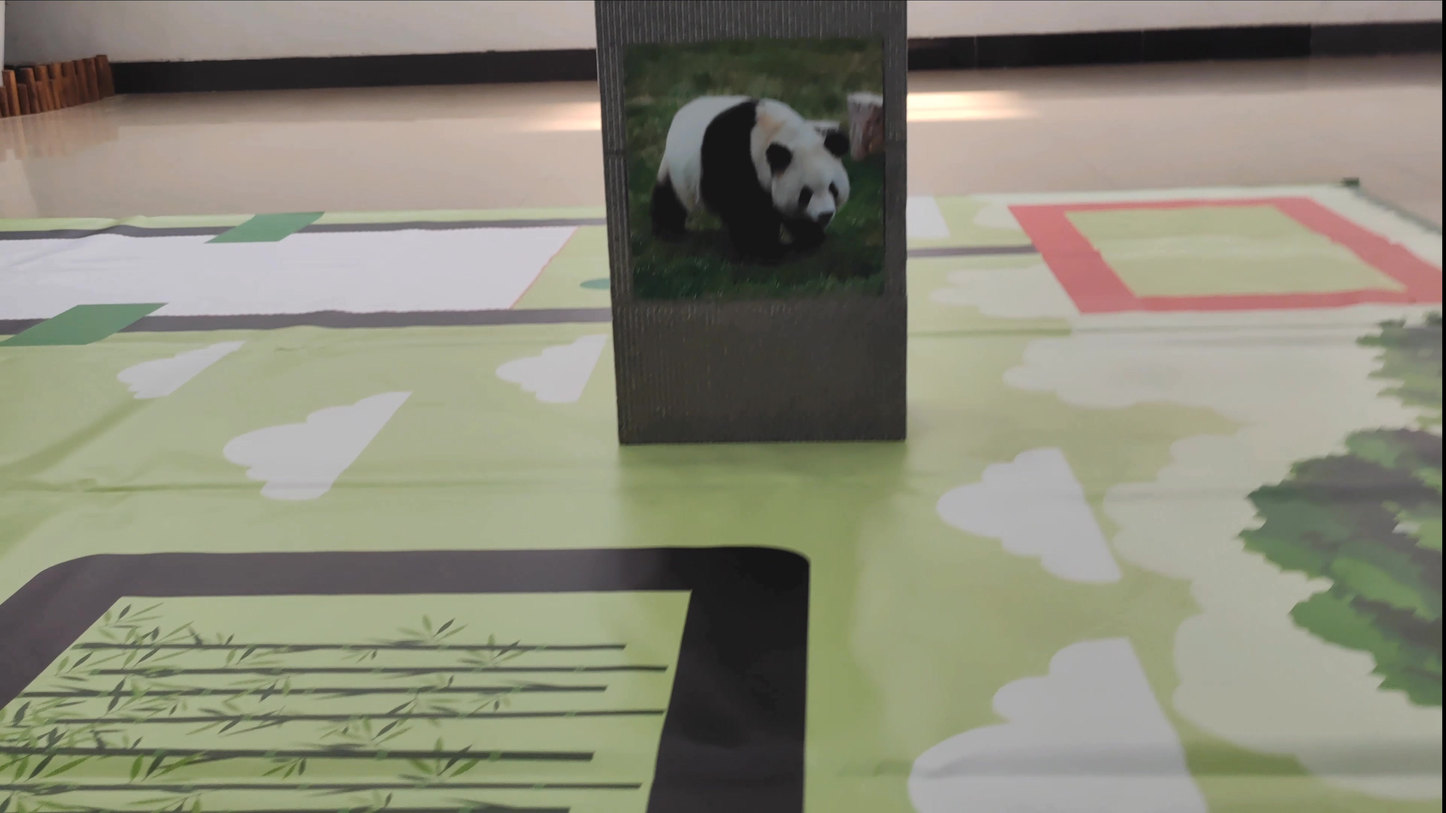panda: (629, 70, 871, 279)
